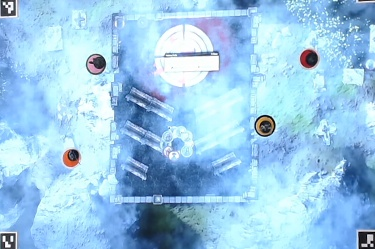orange: (59, 148, 82, 171)
pink_green: (86, 54, 109, 77)
red: (298, 48, 321, 71)
yellow_night_blue: (254, 114, 277, 137)
